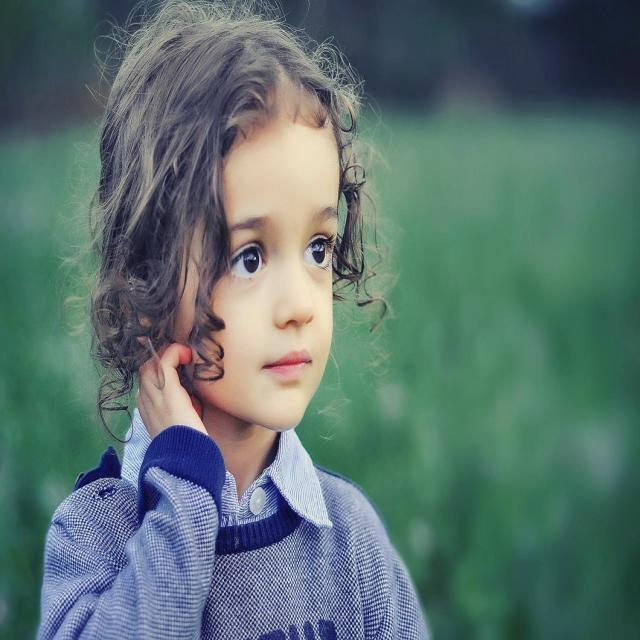child: (37, 0, 434, 640)
